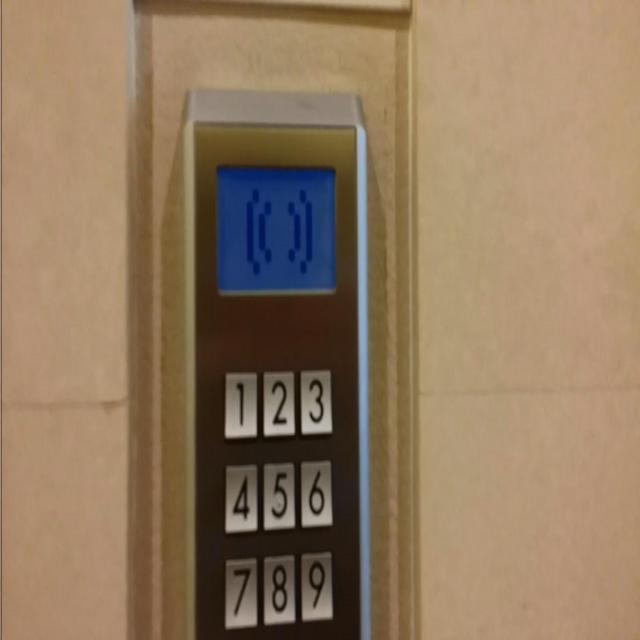1: (222, 366, 259, 440)
2: (262, 368, 296, 438)
3: (298, 365, 333, 437)
4: (222, 459, 259, 535)
5: (262, 458, 296, 532)
6: (299, 456, 334, 529)
7: (223, 553, 258, 629)
8: (260, 551, 296, 626)
9: (299, 548, 334, 624)
led: (212, 160, 336, 298)
